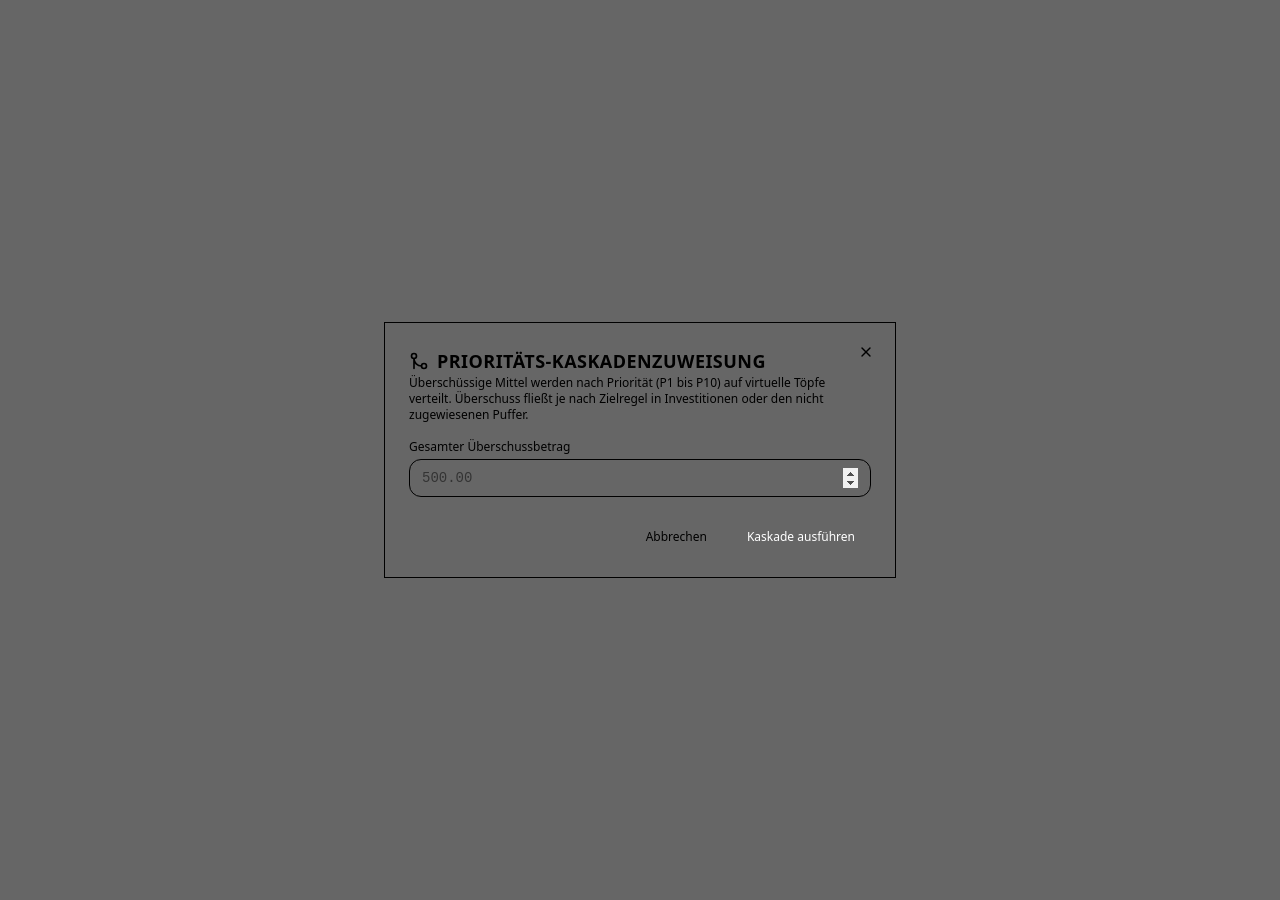
dialogs surface failed saves › CascadeModal shows the failure instead of only logging it
Type "500" into the number field labelled "Gesamter Überschussbetrag" at (640, 478), box 409,459 -> 871,497
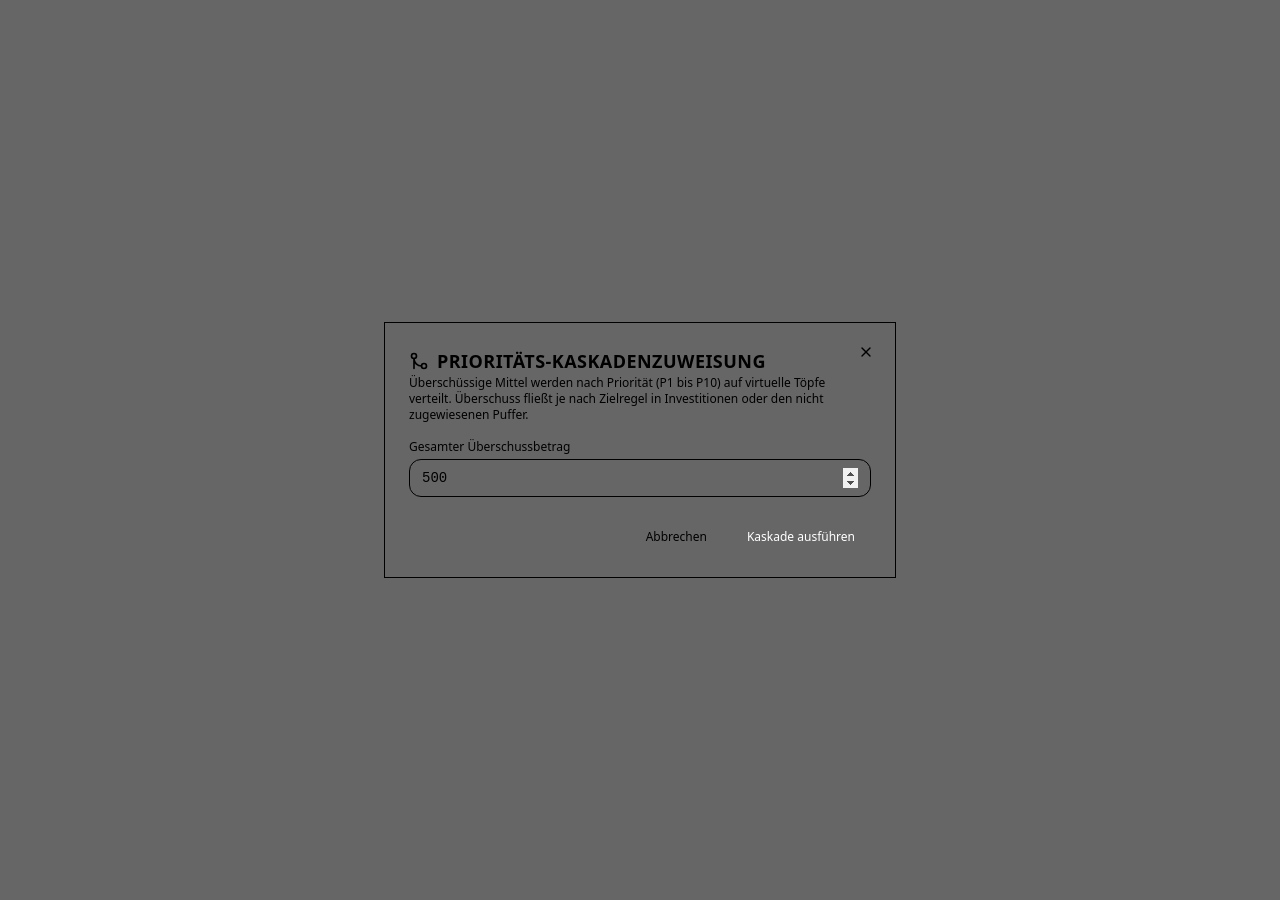
Submit the form named "Gesamter Überschussbetrag", box 409,375 -> 871,553
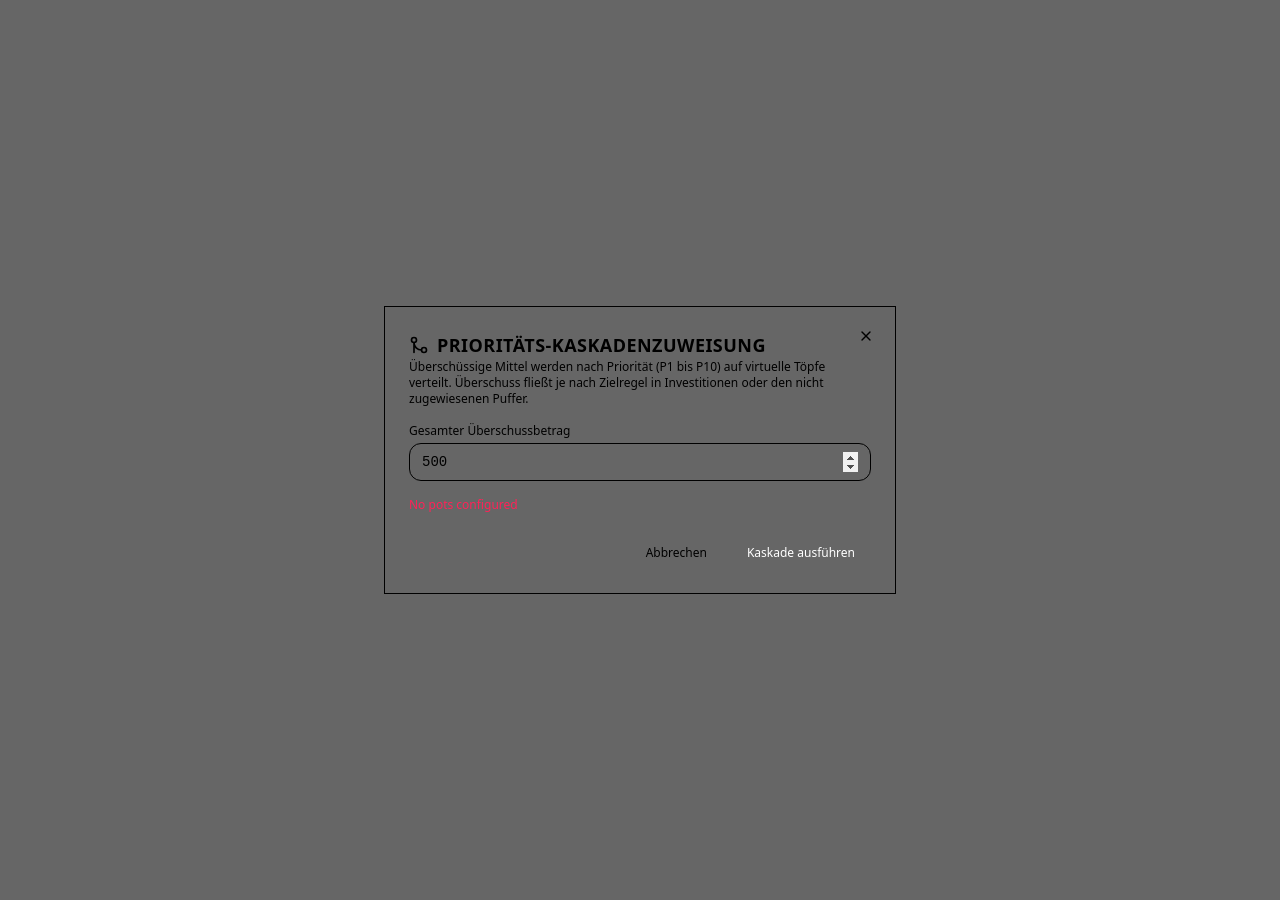
Now the message reads "No pots configured", box 409,496 -> 518,513
